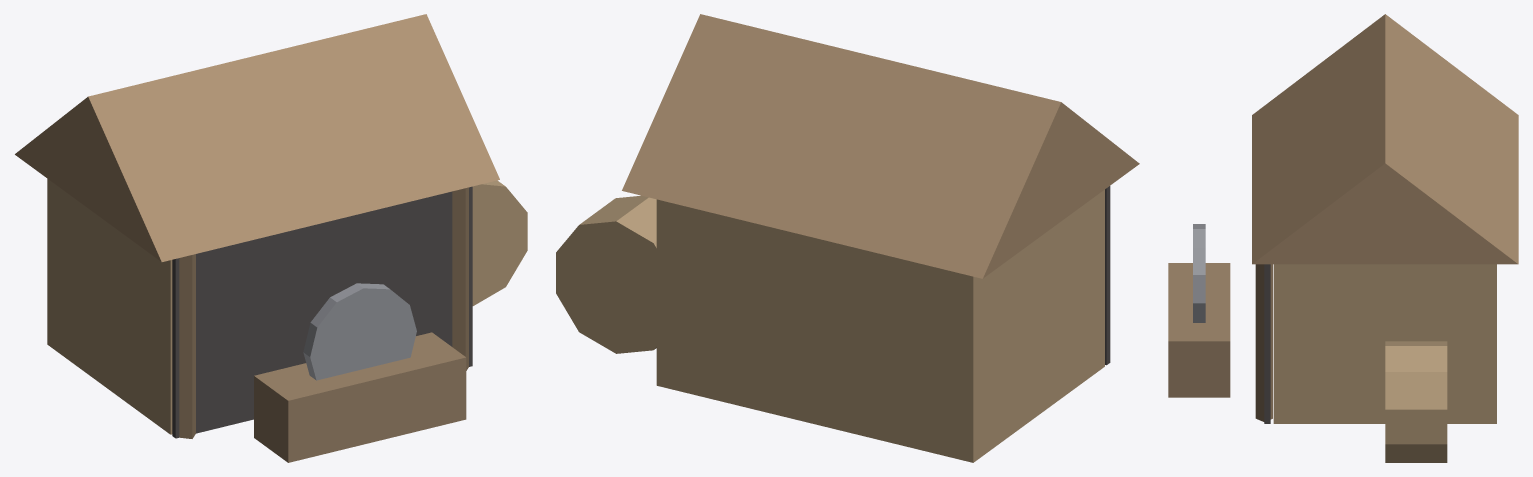
3 views of the same model, side by side, from view 1: azimuth 30°, elevation 25°; view 2: azimuth 150°, elevation 25°; view 3: azimuth 270°, elevation 25° (orthographic). The views are drawn at different scales.
Parts seen in each view (by area): view 1: body; view 2: body; view 3: body.
Part boxes in pixels (x1,y1,x2,y2): body: [15, 14, 527, 462]; body: [556, 14, 1139, 462]; body: [1168, 14, 1518, 462].
Size of the model in its own units: 7.4 by 4.9 by 5.65.
